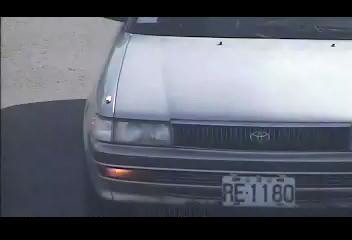plate: (220, 174, 297, 208)
